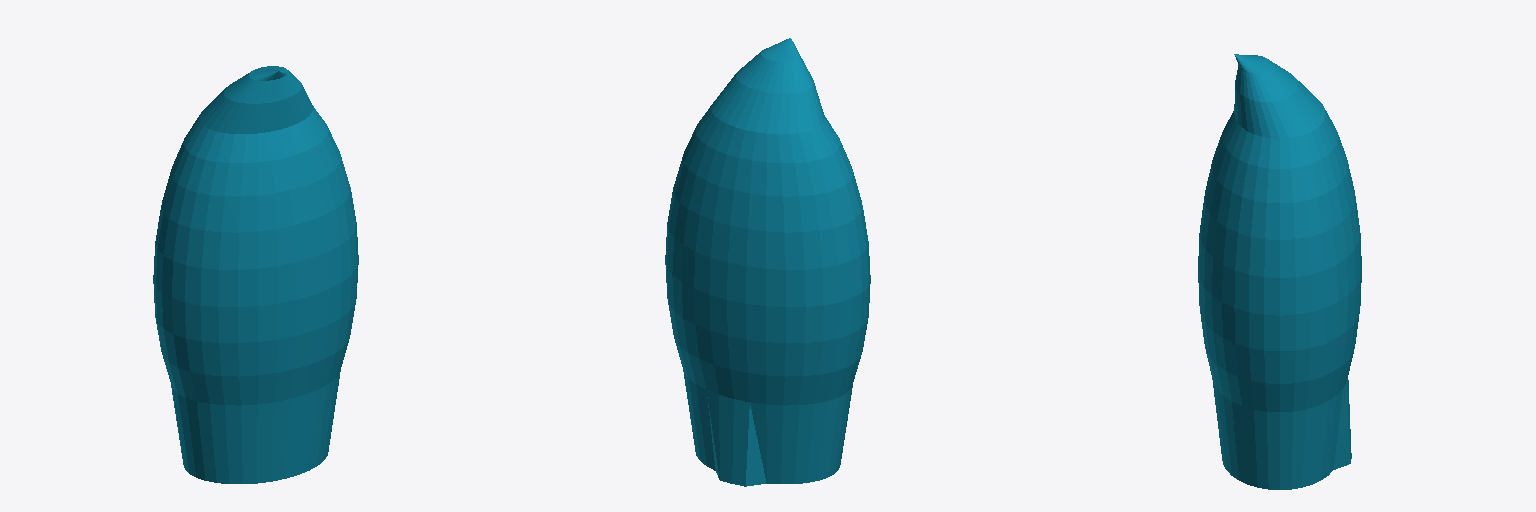
The model's file is penguin.obj.
3 renders of one model, left to right at view 1: azimuth 30°, elevation 25°; view 2: azimuth 150°, elevation 25°; view 3: azimuth 270°, elevation 25°, orthographic.
Parts seen in each view (by area): view 1: Penguin; view 2: Penguin; view 3: Penguin.
Part boxes in pixels (bbox=[...]): Penguin: bbox=[153, 66, 358, 483]; Penguin: bbox=[665, 38, 870, 486]; Penguin: bbox=[1198, 54, 1361, 489].
Bounding box in the file's own units: 3.15 × 6.44 × 2.37.